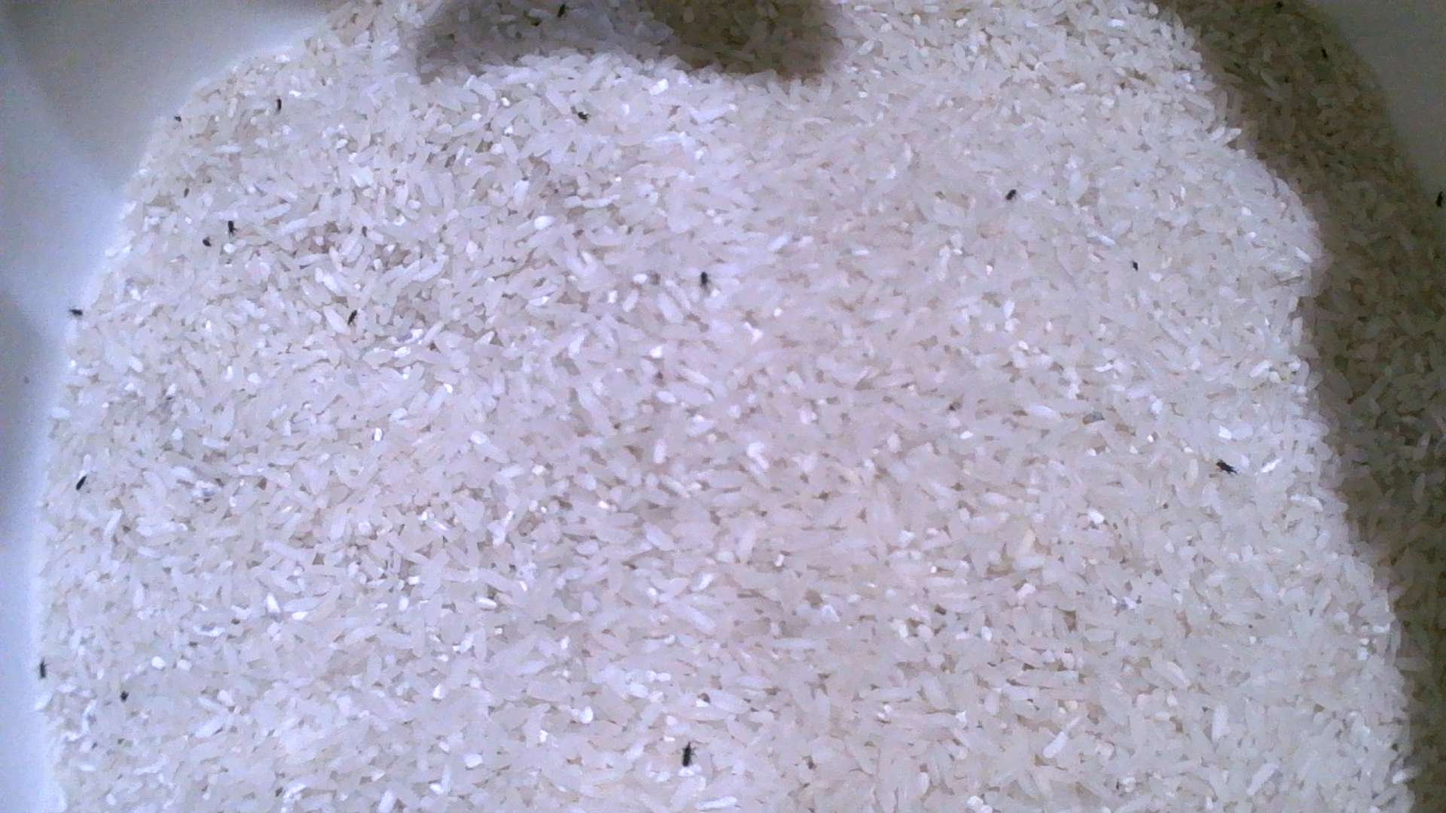Sitophilus-Oryzae: (681, 741, 693, 767), (1216, 461, 1236, 473), (1435, 190, 1446, 208), (38, 658, 47, 679), (699, 271, 710, 288), (347, 309, 357, 324), (1005, 189, 1017, 201), (227, 220, 235, 234)
